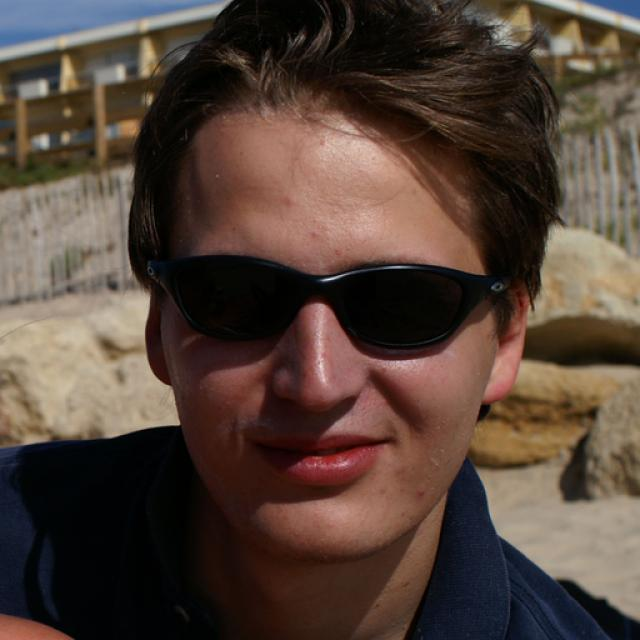Acne: (412, 483, 434, 503), (283, 190, 299, 211), (309, 229, 321, 243), (315, 138, 329, 148)
